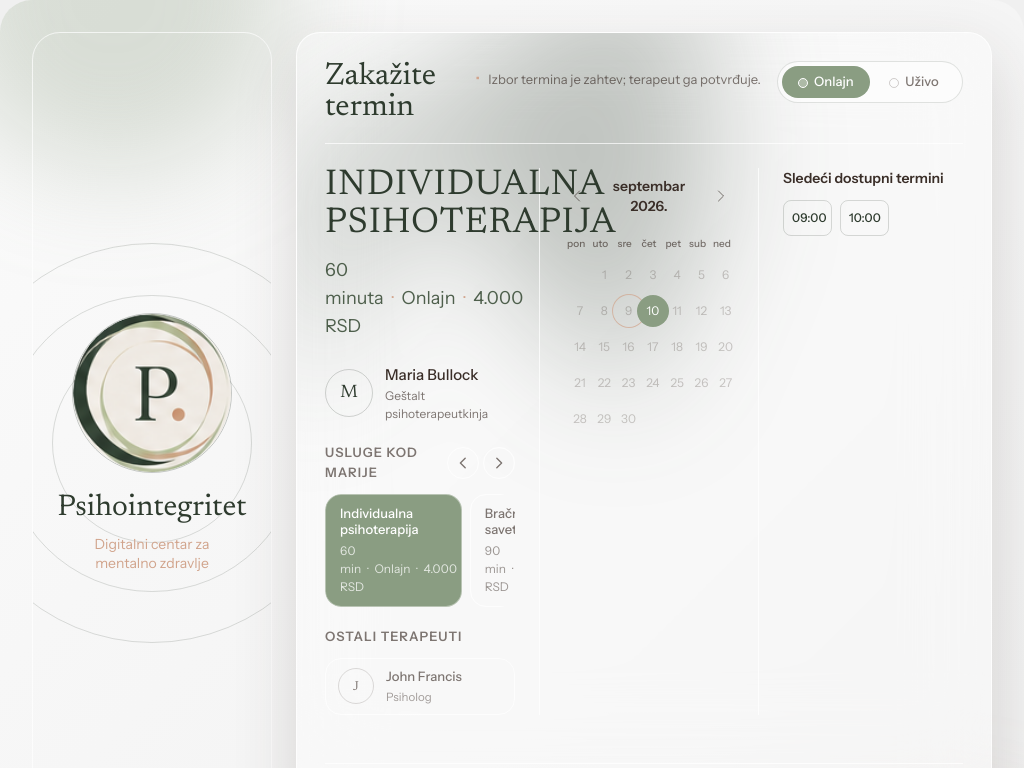
changing therapist › never leaves an invalid pair when the service is not provided
Click the button "09:00". click: [808, 218]
box: [783,200,832,236]
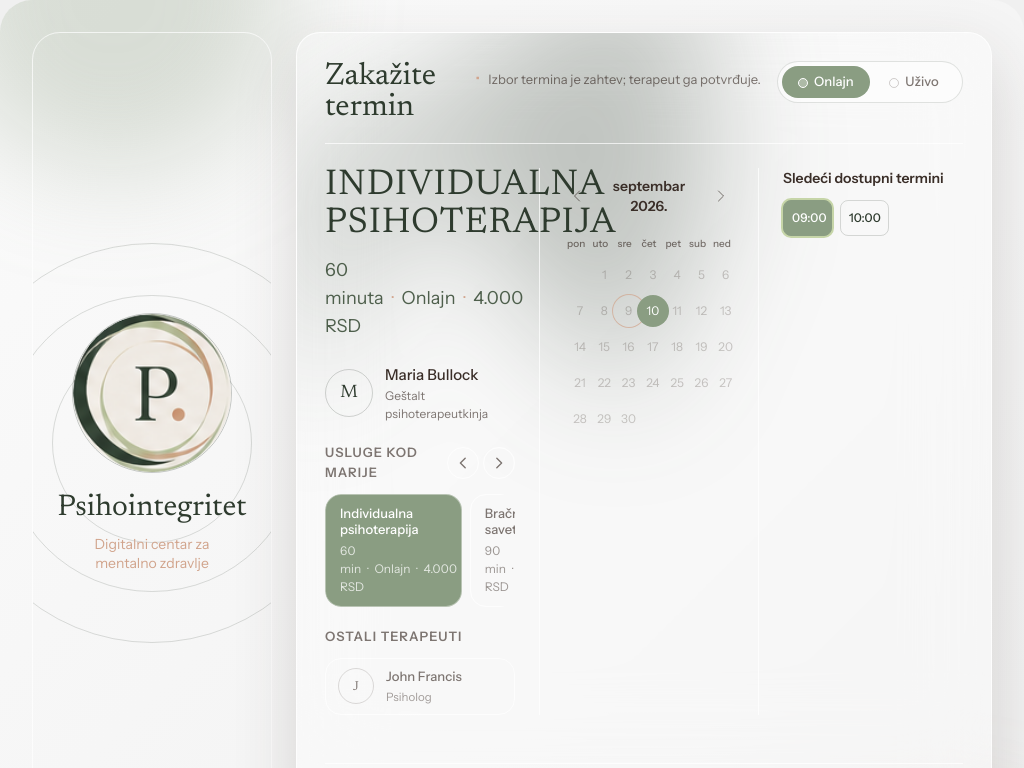
Result: the button "09:00" is pressed at [783,200,832,236]
Click the button "J John Francis Psiholog". click: [420, 686]
box: [325,658,515,715]
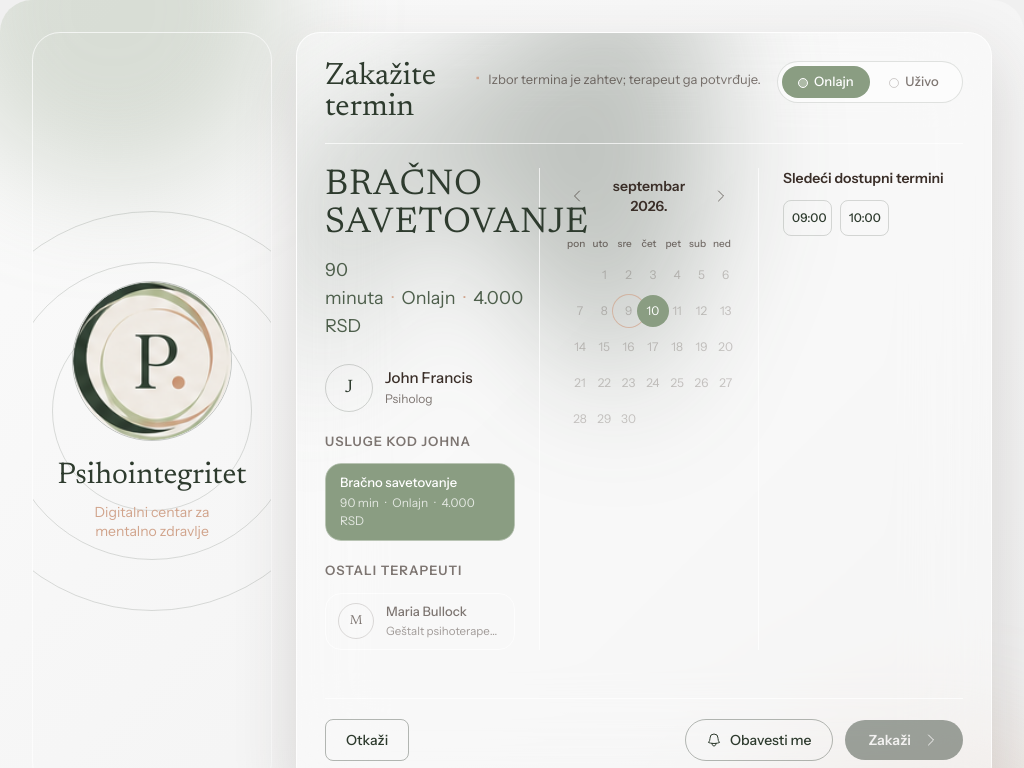
Result: the heading "Individualna psihoterapija" is gone
Result: the heading "Bračno savetovanje" is shown at [325,168,515,244]
